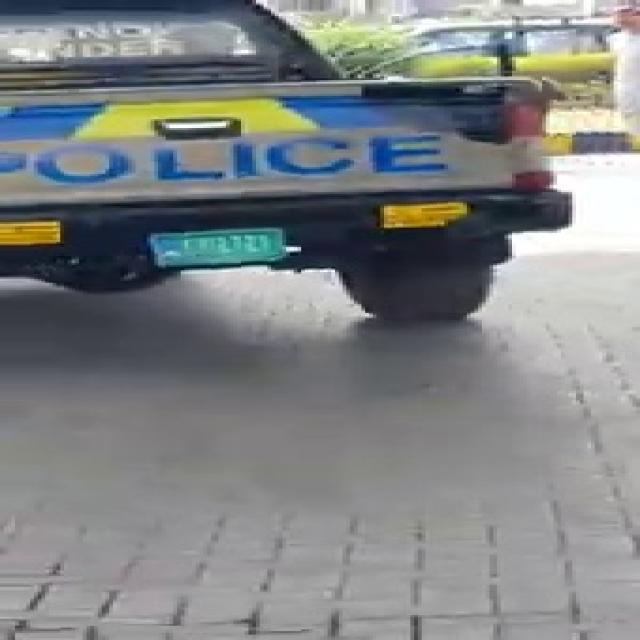police: (0, 21, 621, 299)
